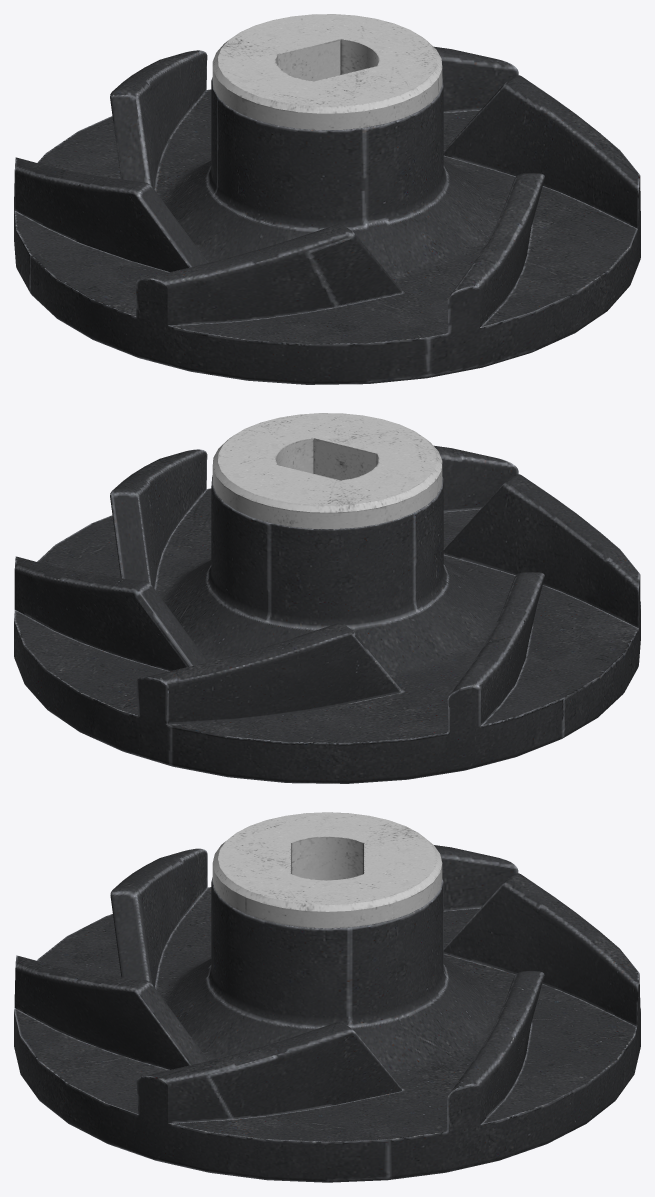
Rendered from waterPump.glb.
3 renders of one model, top to bottom at view 1: azimuth 30°, elevation 25°; view 2: azimuth 150°, elevation 25°; view 3: azimuth 270°, elevation 25°, orthographic.
Visible parts, largest first — view 1: waterPump; view 2: waterPump; view 3: waterPump.
Boxes of the visible parts, bbox=[...] form: waterPump: bbox=[14, 14, 640, 384]; waterPump: bbox=[14, 413, 640, 783]; waterPump: bbox=[14, 812, 640, 1182].
Bounding box in the file's own units: 4.2 × 1.47 × 4.2.
Materials: 1 (1 with a texture image).
